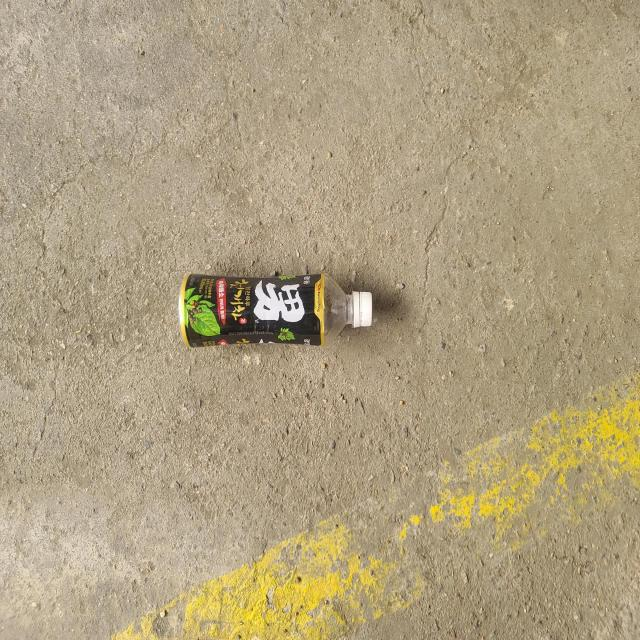plastic: (178, 273, 373, 347)
